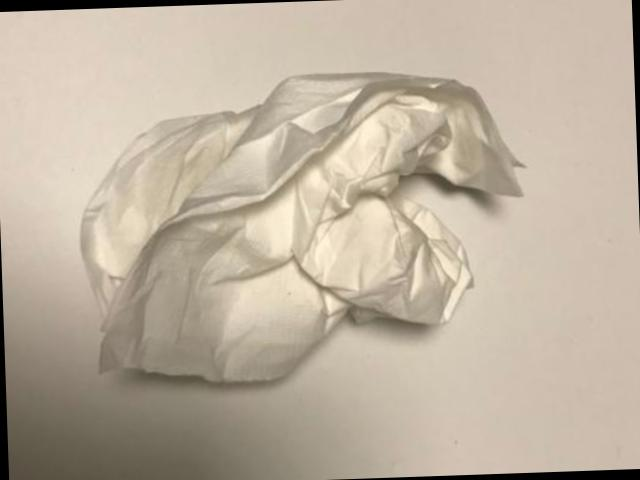cardboard paper: (82, 71, 523, 379)
